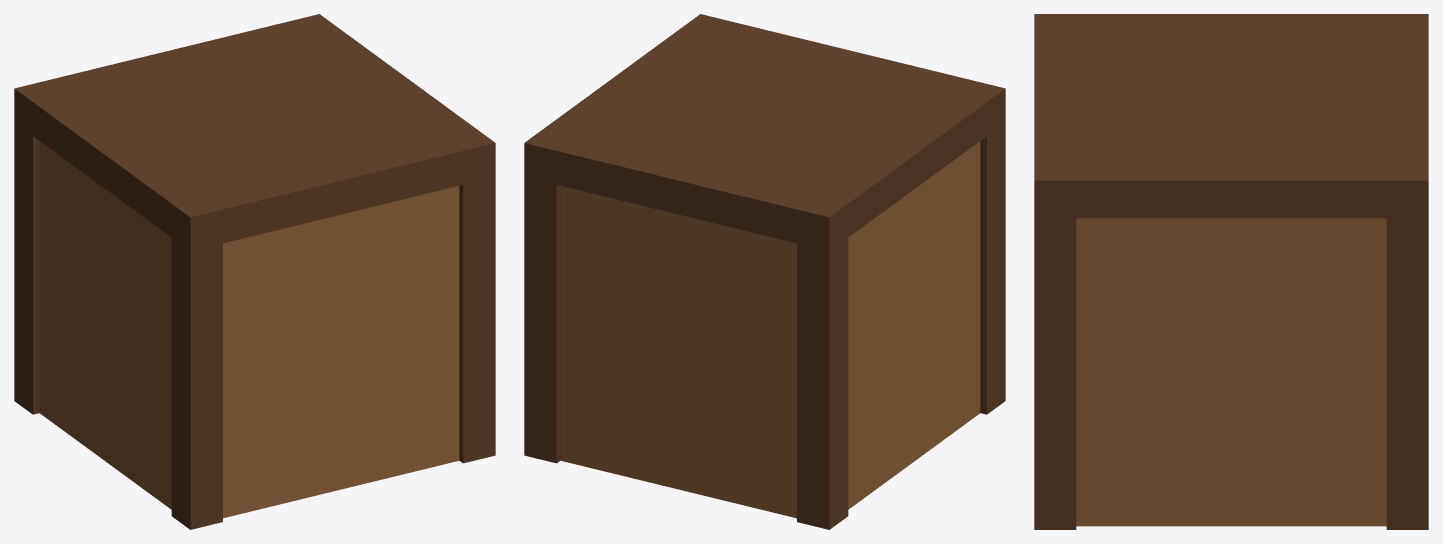
File: crate.glb
3 renders of one model, left to right at view 1: azimuth 30°, elevation 25°; view 2: azimuth 150°, elevation 25°; view 3: azimuth 270°, elevation 25°, orthographic. The views are drawn at different scales.
Visible parts, largest first — view 1: crate; view 2: crate; view 3: crate.
Part boxes in pixels (left/top/right/bottom): crate: left=14, top=14, right=495, bottom=529; crate: left=524, top=14, right=1005, bottom=529; crate: left=1034, top=14, right=1428, bottom=529.
Bounding box in the file's own units: 0.94 × 0.92 × 0.94.
Materials: 1 (1 with a texture image).
